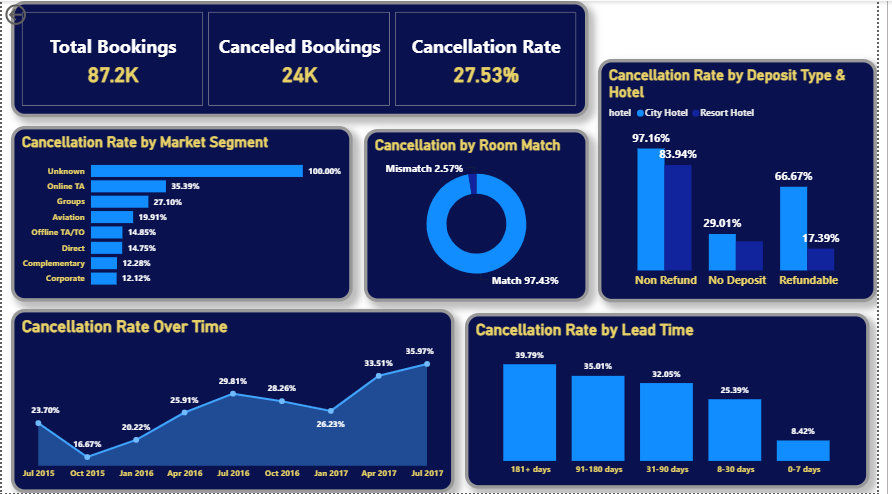

The page's visual inventory and layout, read from the dashboard file:
{"tool":"powerbi","page":{"name":"Bookings & Cancellation","canvas":[1280,720],"ordinal":1},"visuals":[{"type":"cardVisual","fields":{"Data":["Measures (2).Total Bookings","Measures (2).Canceled Bookings","Measures (2).Cancellation Rate"]},"box":[13.4,0,845.4,169.7],"z":0},{"type":"clusteredColumnChart","title":"Cancellation Rate by Deposit Type & Hotel","fields":{"Category":["HotelBookings_Clean.deposit_type"],"Series":["HotelBookings_Clean.hotel"],"Y":["Measures (2).Cancellation Rate"]},"box":[872.2,84.8,407.8,355.7],"z":1000},{"type":"clusteredColumnChart","title":"Cancellation Rate by Lead Time","fields":{"Category":["HotelBookings_Clean.Lead Time Group"],"Y":["Measures (2).Cancellation Rate"]},"box":[677.2,456.9,592.4,257.5],"z":2000},{"type":"clusteredBarChart","title":"Cancellation Rate by Market Segment","fields":{"Category":["HotelBookings_Clean.market_segment"],"Y":["Measures (2).Cancellation Rate"]},"box":[13.4,183.1,500.1,257.5],"z":3000},{"type":"donutChart","title":"Cancellation by Room Match","fields":{"Category":["HotelBookings_Clean.Room Type Match"],"Y":["Measures (2).Canceled Bookings"]},"box":[529.9,187.5,328.9,253],"z":4000},{"type":"areaChart","title":"Cancellation Rate Over Time","fields":{"Category":["HotelBookings_Clean.arrival_date.Variation.Date Hierarchy.Year","HotelBookings_Clean.arrival_date.Variation.Date Hierarchy.Quarter","HotelBookings_Clean.arrival_date.Variation.Date Hierarchy.Month","HotelBookings_Clean.arrival_date.Variation.Date Hierarchy.Day"],"Y":["Measures (2).Cancellation Rate"]},"box":[13.4,451,648.9,269.4],"z":5000},{"type":"actionButton","box":[0,0,100,40],"z":6000}]}

Visuals, with their boxes in screenshot pixels (x1, y1, x2, y2), scaled from the page's 1280x720 canvas onto the 892x494 screenshot:
cardVisual - Measures (2).Total Bookings x Measures (2).Canceled Bookings: [left=9, top=0, right=598, bottom=116]
"Cancellation Rate by Deposit Type & Hotel" clusteredColumnChart: [left=608, top=58, right=891, bottom=302]
"Cancellation Rate by Lead Time" clusteredColumnChart: [left=472, top=313, right=885, bottom=490]
"Cancellation Rate by Market Segment" clusteredBarChart: [left=9, top=126, right=358, bottom=302]
"Cancellation by Room Match" donutChart: [left=369, top=129, right=598, bottom=302]
"Cancellation Rate Over Time" areaChart: [left=9, top=309, right=462, bottom=493]
actionButton: [left=0, top=0, right=70, bottom=27]
